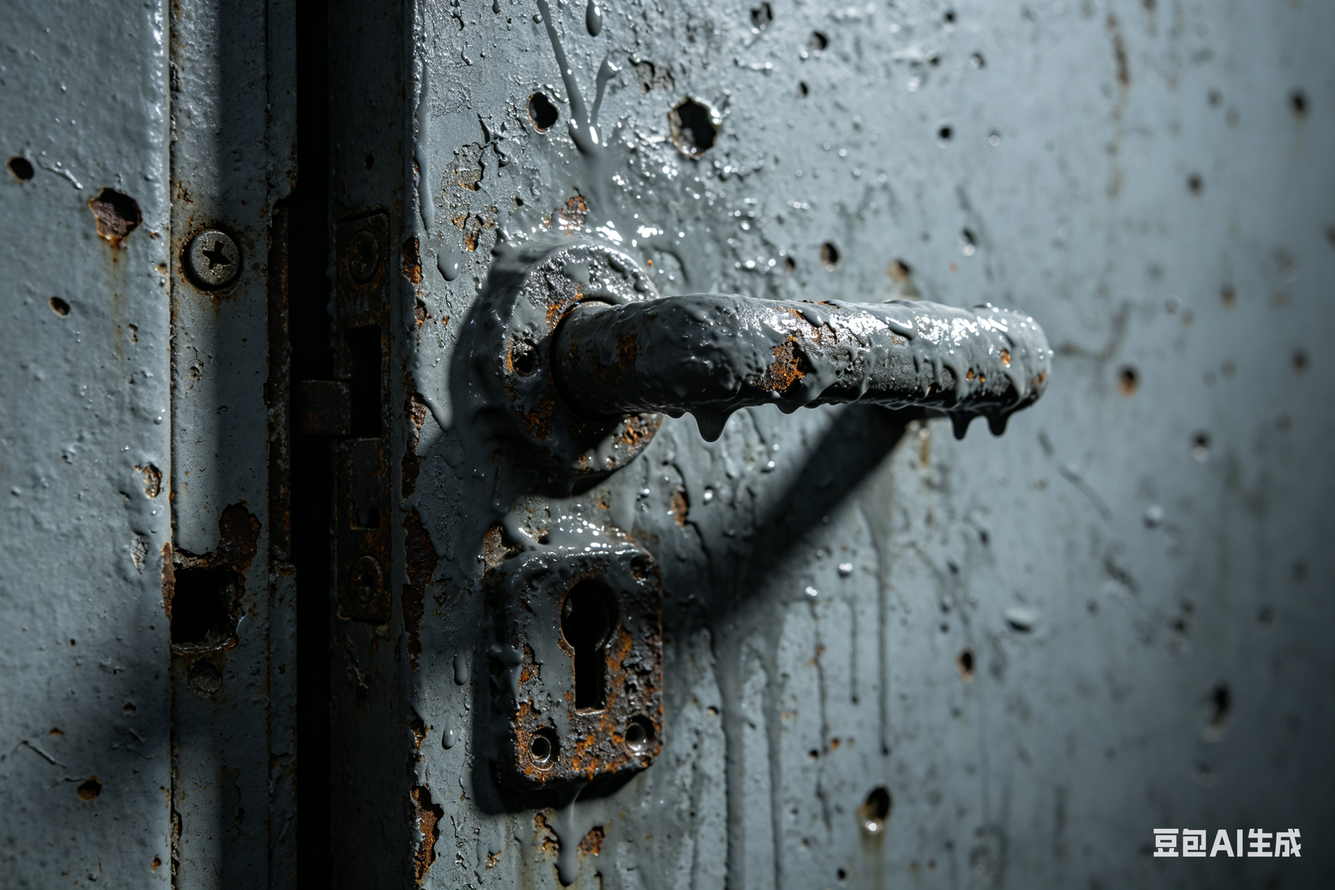BadLock: (496, 262, 1048, 423)
